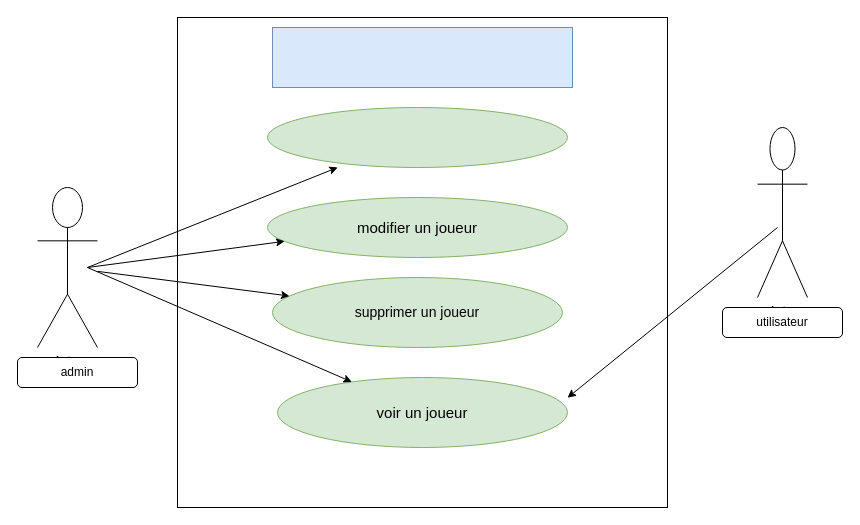
This 860x525 diagram has some shape labels left out. Here are the shapes that lost their labels. From the top down, the box of each, then its label:
(272, 26, 572, 88): Gestion des jeurs
(266, 106, 568, 168): ajouter un joueur
